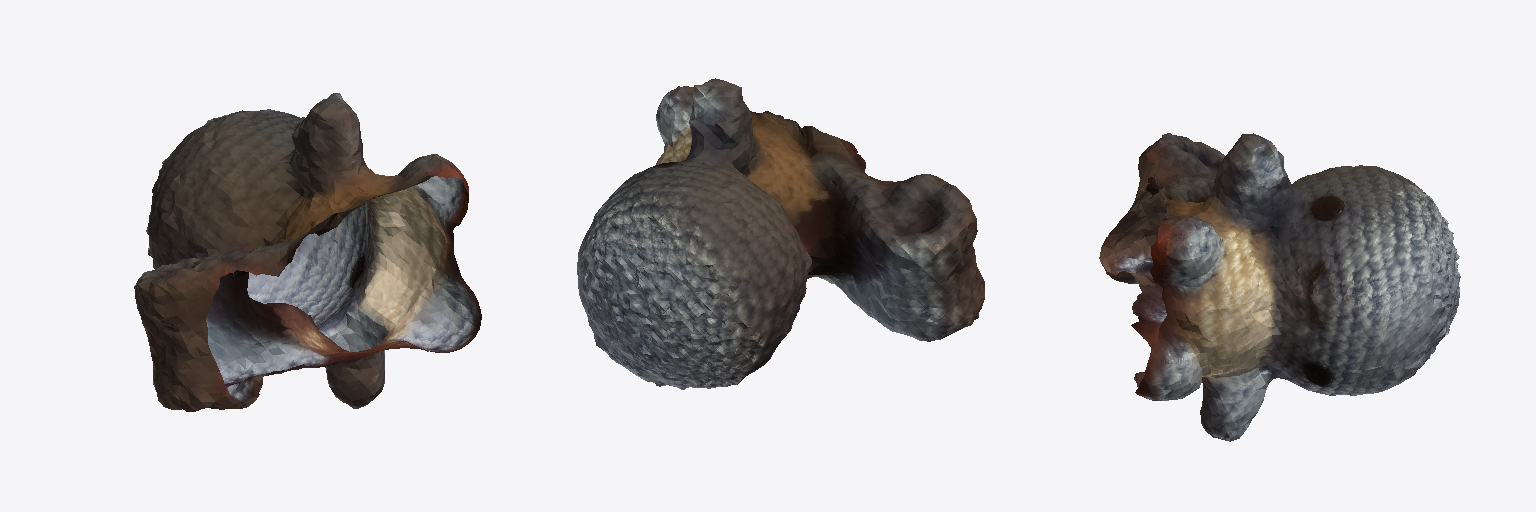
3 renders of one model, left to right at view 1: azimuth 30°, elevation 25°; view 2: azimuth 150°, elevation 25°; view 3: azimuth 270°, elevation 25°, orthographic.
Bounding box in the file's own units: 4.98 × 4.48 × 4.93.
Materials: 1 (1 with a texture image).